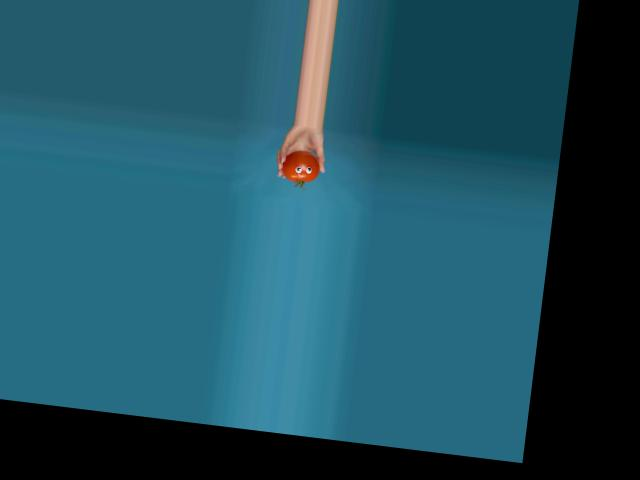tomato: (280, 148, 322, 184)
